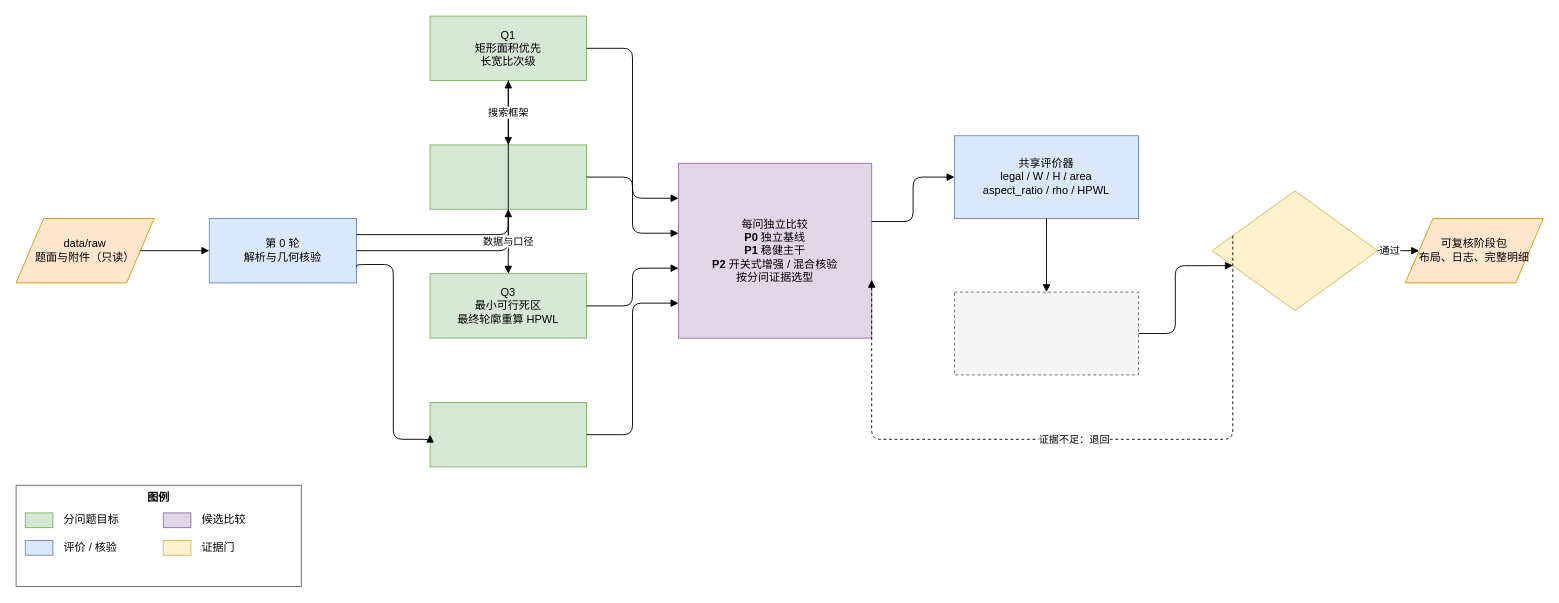
Some shapes in this 1559 by 603 pixel diagram are drawn without their labels. Here are the shapes that lost their labels. From the top down, the box of each, then its label:
(429, 144, 586, 209): Q2 d=0.15 正方形轮廓 最小 HPWL
(1211, 190, 1378, 310): V2 证据门 数据 / 公式 / 参数 命令 / 实际运行证据
(954, 291, 1138, 375): 独立审计 真实几何、Terminal 与指标复算
(429, 402, 586, 467): Q4 真实正交多边形 面积最小
